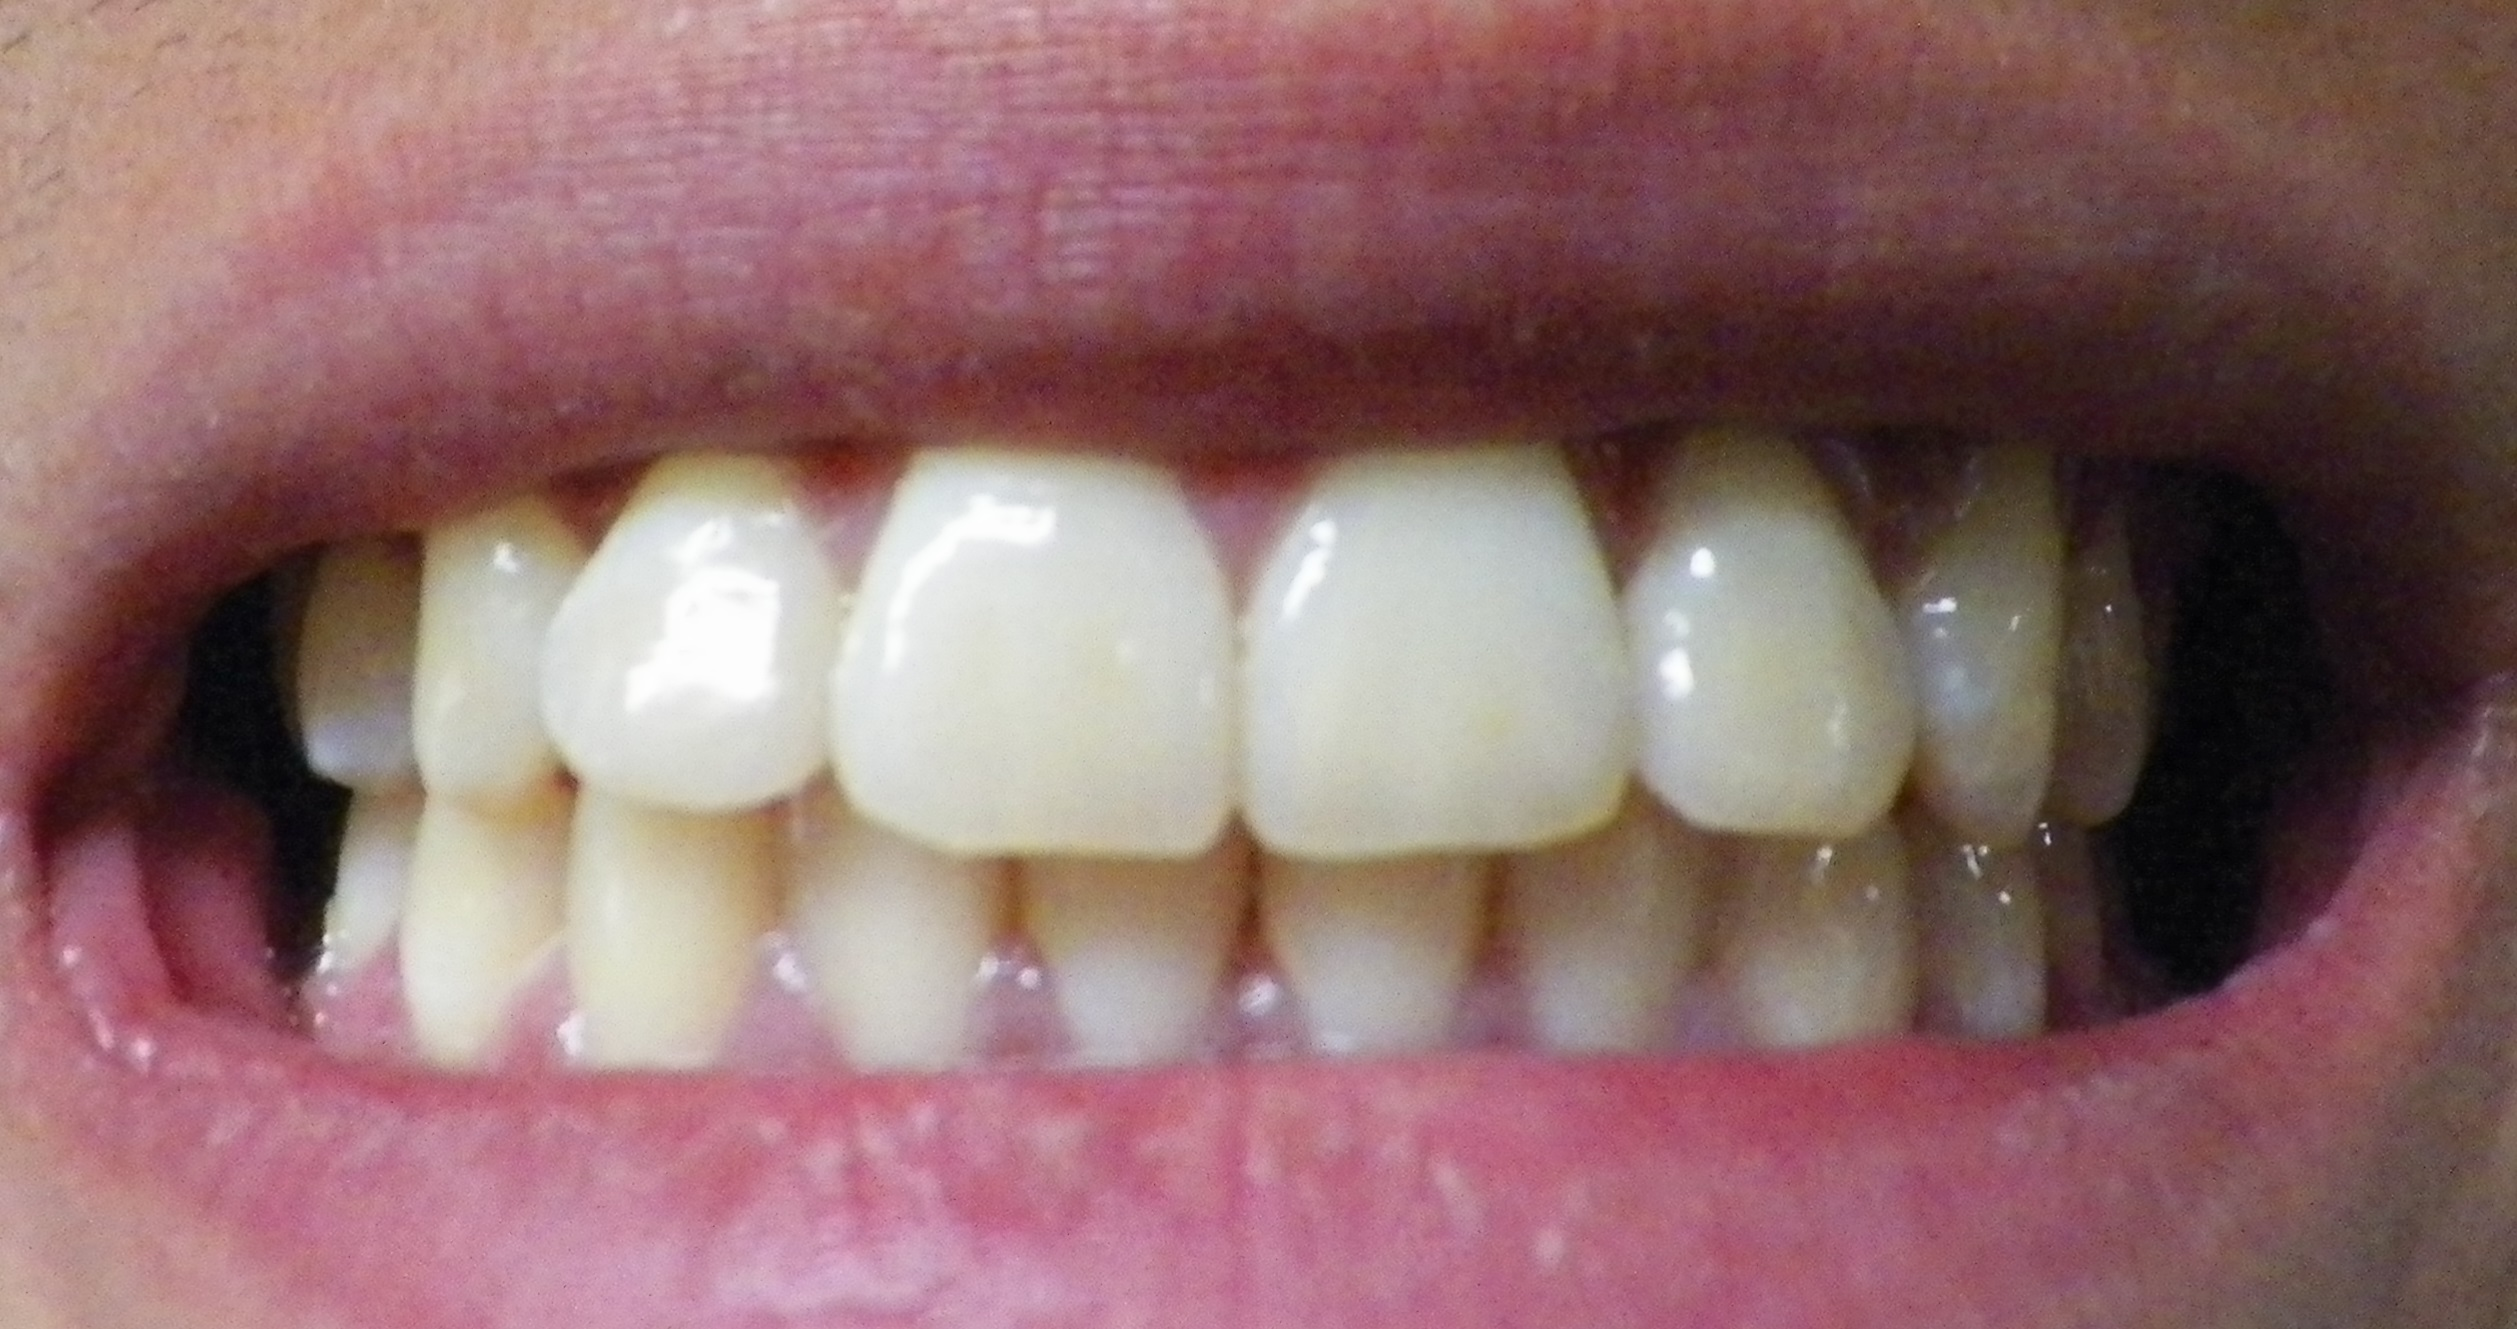boca: (285, 445, 2162, 1064)
